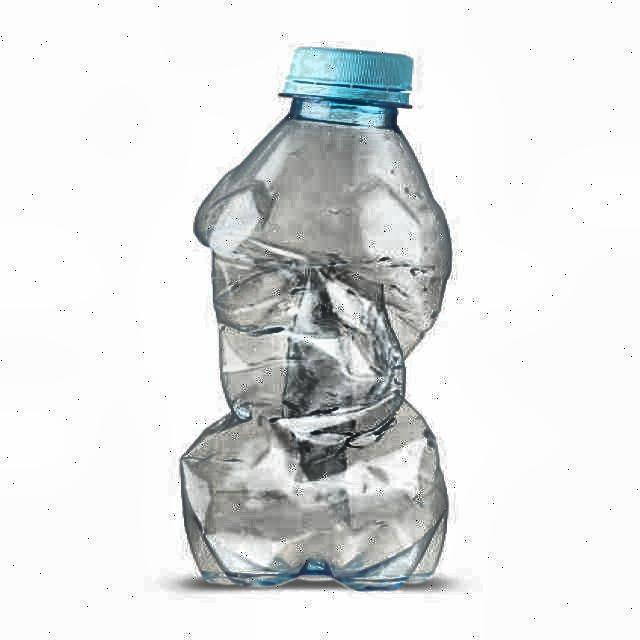plastic: (177, 44, 454, 593)
